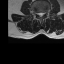CCS_normal: (39, 10, 42, 18)
LFS_normal: (44, 9, 46, 16)
LLS_normal: (42, 10, 44, 17)
RFS_stenosis: (35, 10, 37, 16)
RLS_normal: (37, 10, 39, 17)
